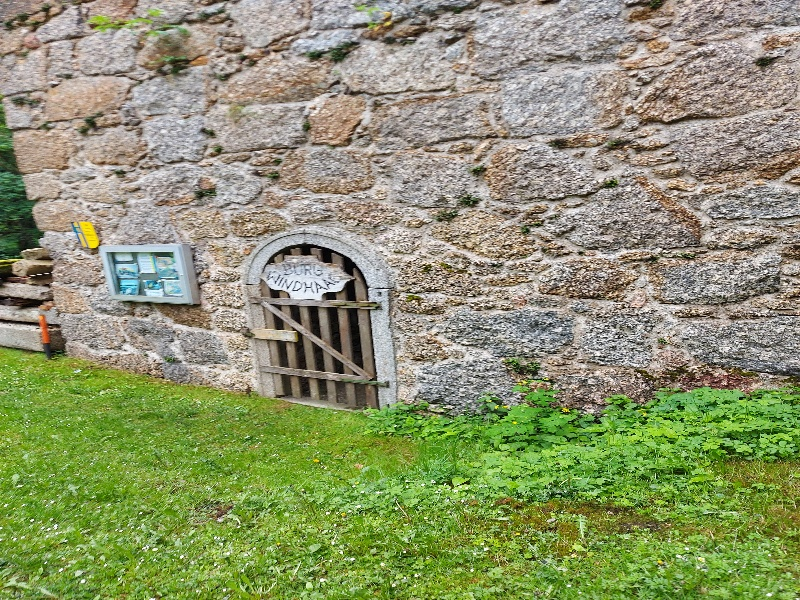dungeon: (215, 222, 412, 418)
